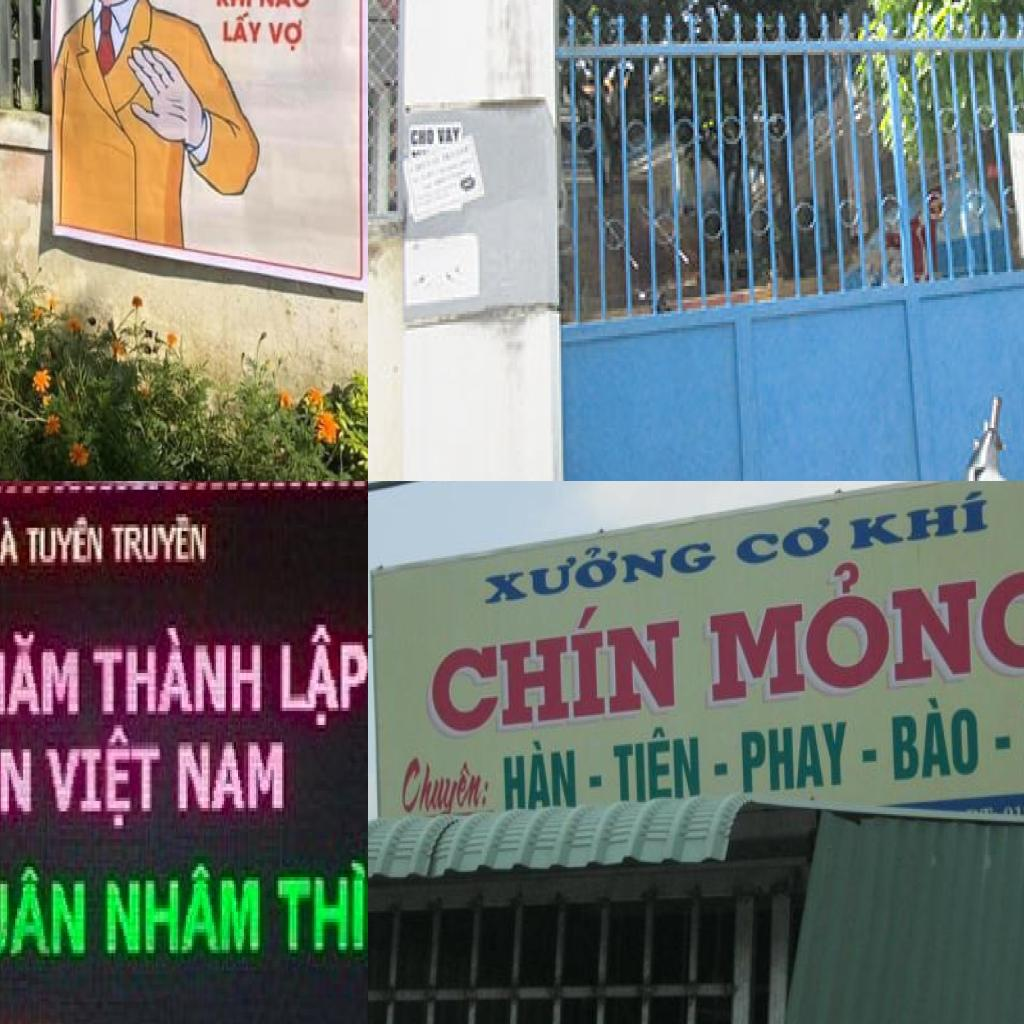text: (695, 523, 1024, 725), (418, 584, 688, 749), (478, 519, 723, 616), (90, 621, 266, 722), (104, 863, 264, 964), (45, 725, 164, 836), (732, 714, 856, 800), (278, 618, 368, 732), (846, 488, 992, 558), (885, 691, 982, 787), (276, 856, 368, 956), (610, 716, 706, 810), (0, 863, 89, 963), (176, 739, 286, 818), (0, 628, 83, 721), (729, 510, 835, 577), (498, 734, 580, 816), (397, 754, 496, 821), (109, 510, 212, 570), (25, 510, 108, 570), (0, 728, 35, 821), (221, 11, 264, 47), (0, 514, 25, 573), (990, 730, 1017, 754), (256, 0, 312, 11), (411, 124, 436, 147), (436, 127, 463, 147), (859, 744, 880, 766), (215, 0, 253, 11), (586, 771, 604, 790), (712, 761, 730, 777)
